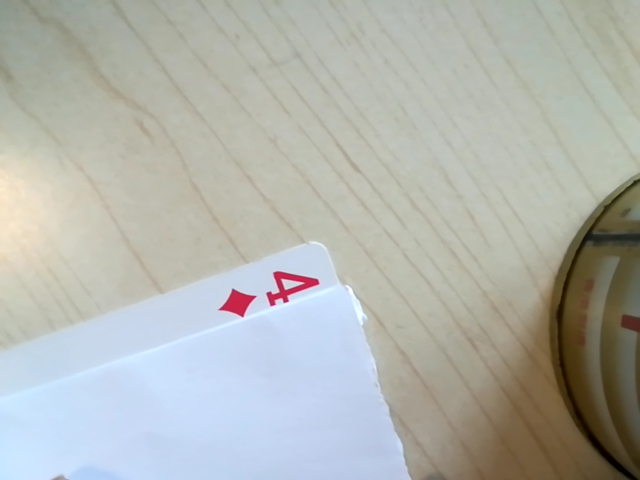fk 4: (201, 266, 333, 320)
